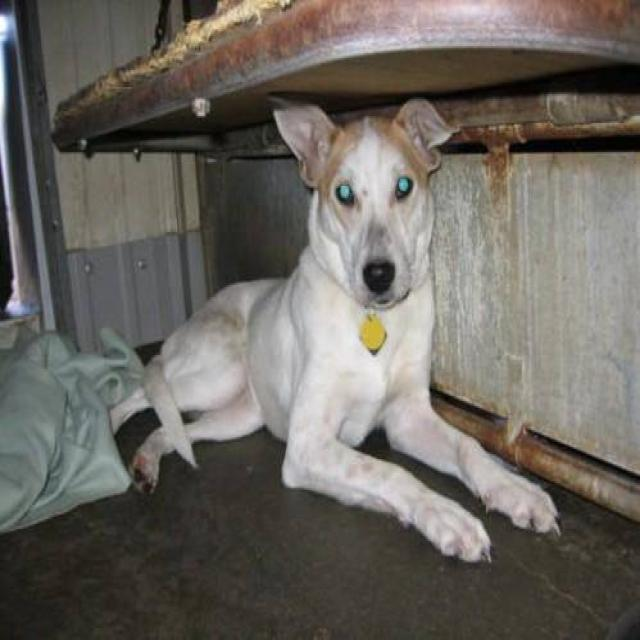dog: (106, 94, 562, 565)
